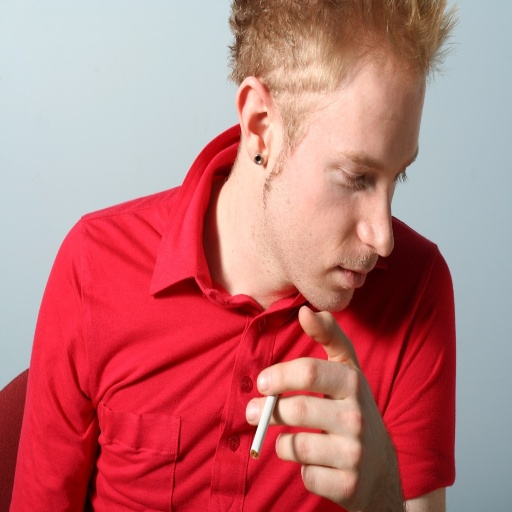hand: (244, 304, 403, 511)
